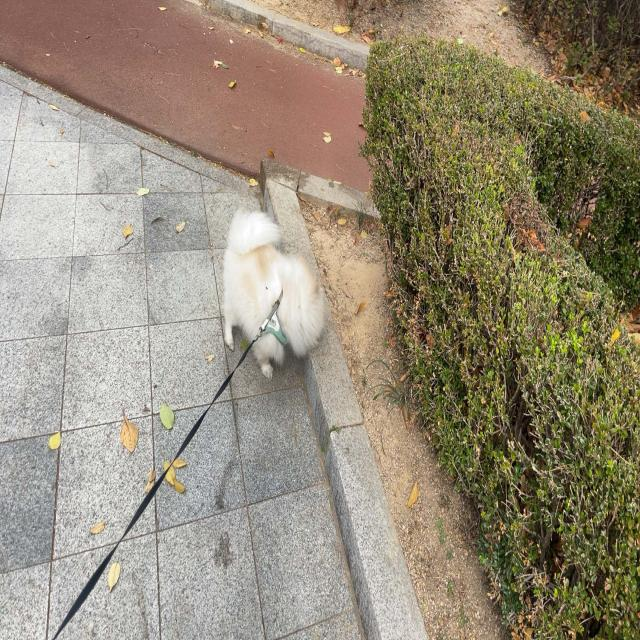Dog: (222, 209, 325, 379)
